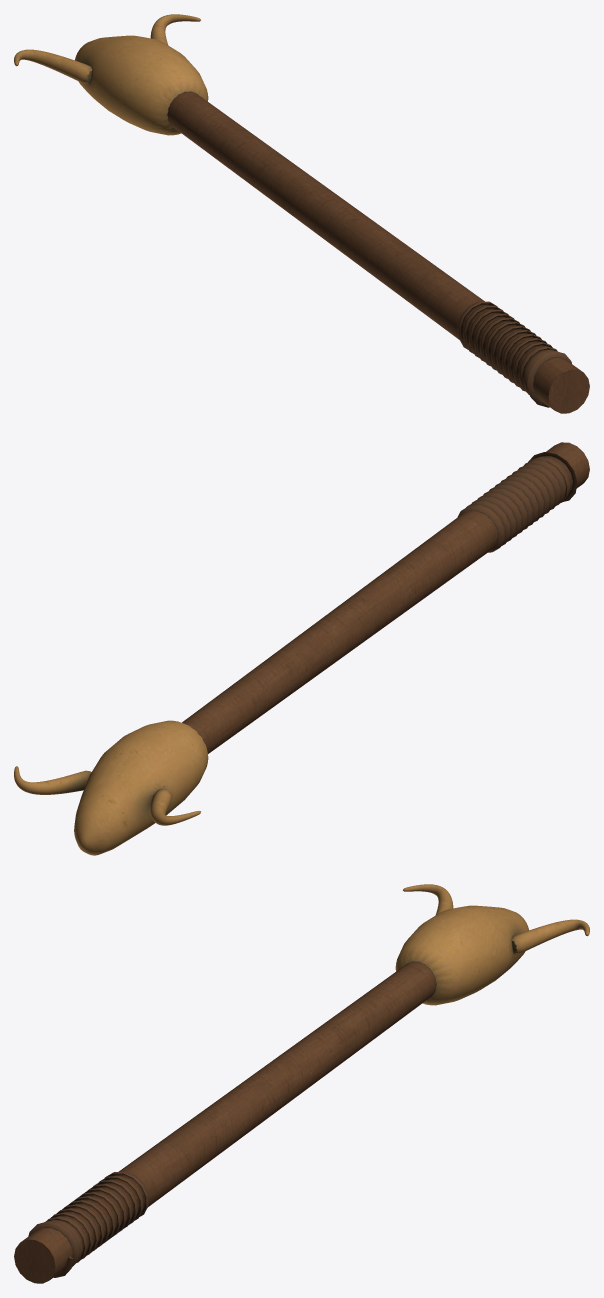
File: sasanian_mace.glb
The picture shows the model from 3 angles, top to bottom: view 1: azimuth 30°, elevation 25°; view 2: azimuth 150°, elevation 25°; view 3: azimuth 330°, elevation 25°; orthographic projection.
Visible parts, largest first — view 1: sasanian_mace; view 2: sasanian_mace; view 3: sasanian_mace.
Part boxes in pixels (x1=…): sasanian_mace: x1=14, y1=14, x2=589, y2=413; sasanian_mace: x1=14, y1=442, x2=589, y2=855; sasanian_mace: x1=14, y1=884, x2=589, y2=1283.
Bounding box in the file's own units: 0.1604 × 0.0659 × 0.7297.
Materials: 1 (1 with a texture image).
